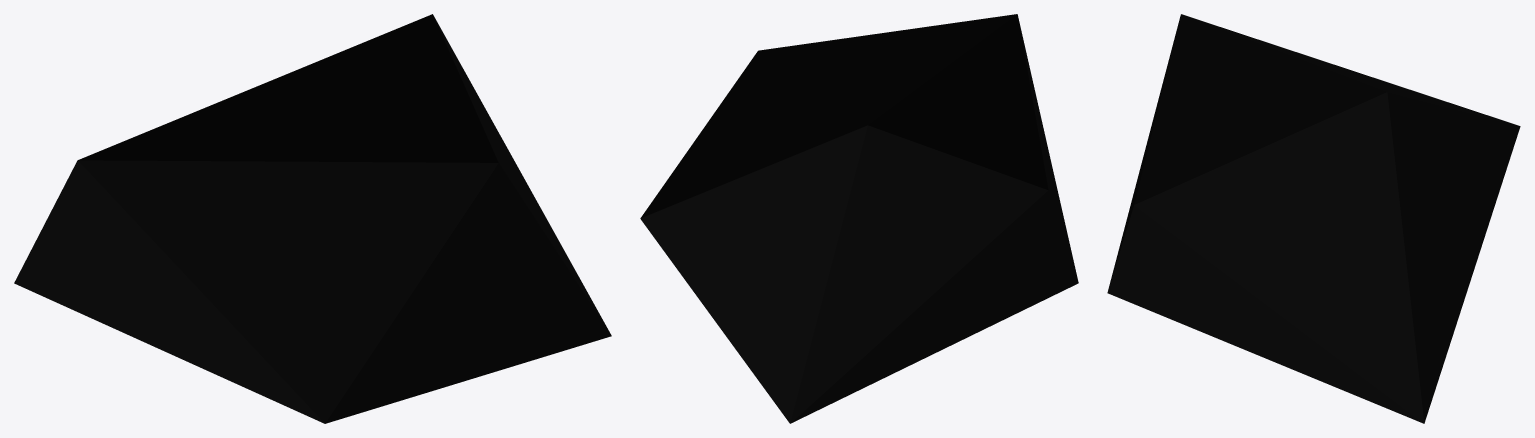
The picture shows the model from 3 angles, left to right: view 1: azimuth 30°, elevation 25°; view 2: azimuth 150°, elevation 25°; view 3: azimuth 270°, elevation 25°; orthographic projection. The views are drawn at different scales.
Bounding box in the file's own units: 0.1042 × 0.0836 × 0.0879.
1 material, 1 textured.
